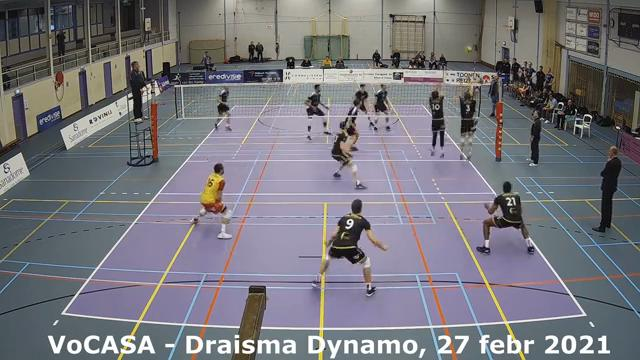attacco: (471, 71, 485, 104)
muro: (422, 75, 450, 161), (455, 77, 480, 167)
